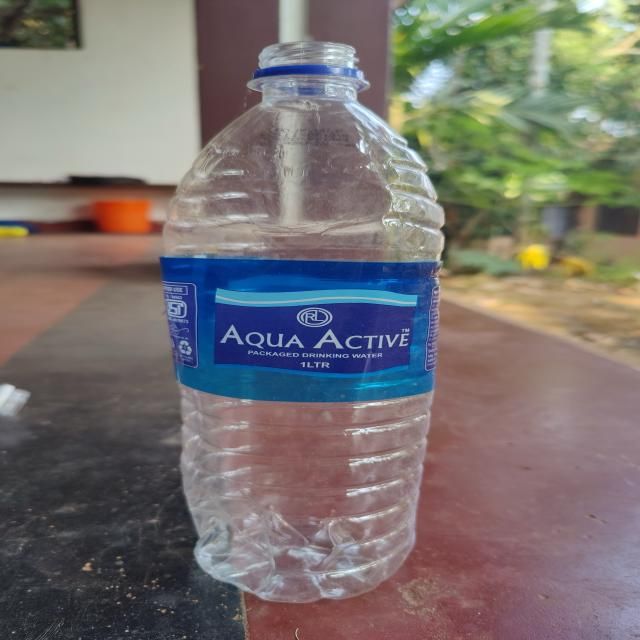plastic: (156, 39, 444, 604)
